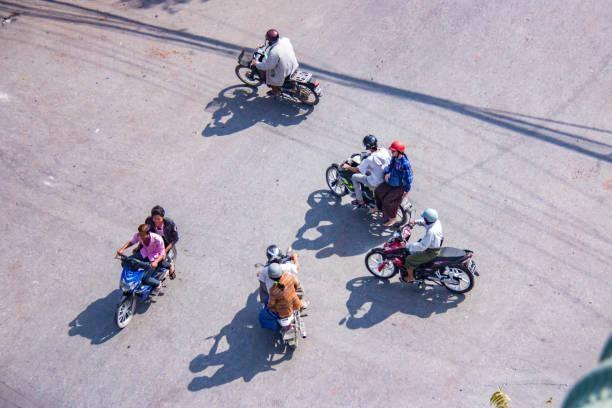Motorcycle: (370, 238, 480, 299), (240, 48, 330, 116), (112, 233, 180, 321), (329, 151, 411, 221), (259, 254, 309, 360)
